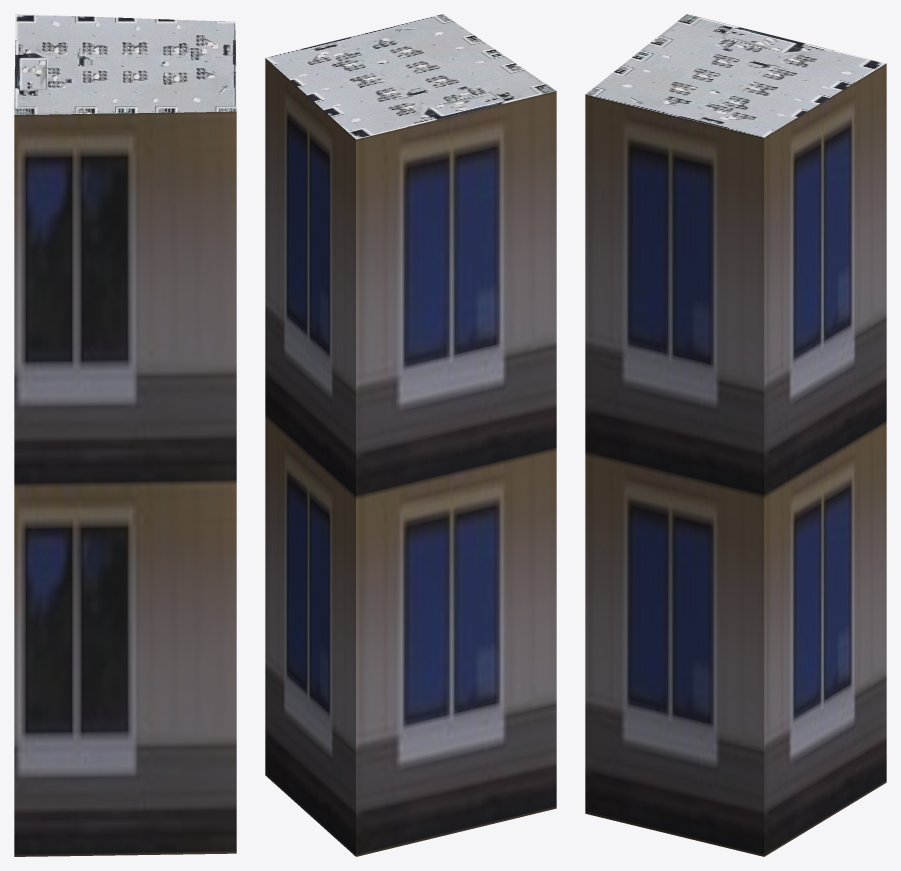
File: ResTex__1232.fbx
3 views of the same model, side by side, from view 1: azimuth 30°, elevation 25°; view 2: azimuth 150°, elevation 25°; view 3: azimuth 270°, elevation 25° (orthographic). The views are drawn at different scales.
Parts seen in each view (by area): view 1: CityEngineMaterial_5_m, CityEngineMaterial_8_m; view 2: CityEngineMaterial_5_m, CityEngineMaterial_8_m; view 3: CityEngineMaterial_5_m, CityEngineMaterial_8_m.
Boxes of the visible parts, x1,y1,x2,y2 form: CityEngineMaterial_5_m: (14, 111, 236, 856); CityEngineMaterial_8_m: (14, 14, 236, 114); CityEngineMaterial_5_m: (265, 58, 556, 856); CityEngineMaterial_8_m: (265, 14, 556, 139); CityEngineMaterial_5_m: (585, 63, 886, 856); CityEngineMaterial_8_m: (585, 14, 885, 137).
Bounding box in the file's own units: 2.21 × 6 × 2.28.
2 materials, 2 textured.
